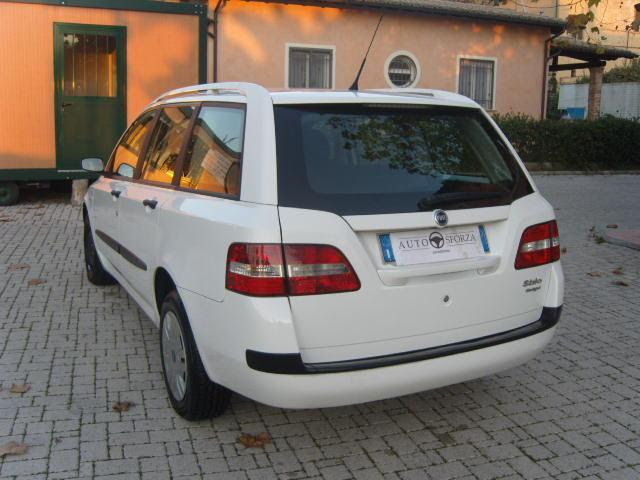car: (60, 65, 597, 447)
